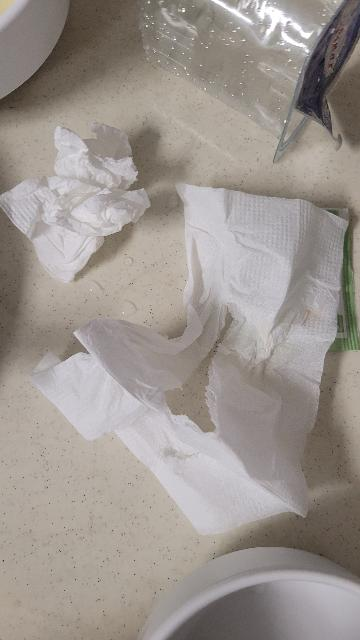Kagit: (56, 167, 336, 546), (4, 108, 156, 282)
Plastik: (137, 1, 360, 147)
